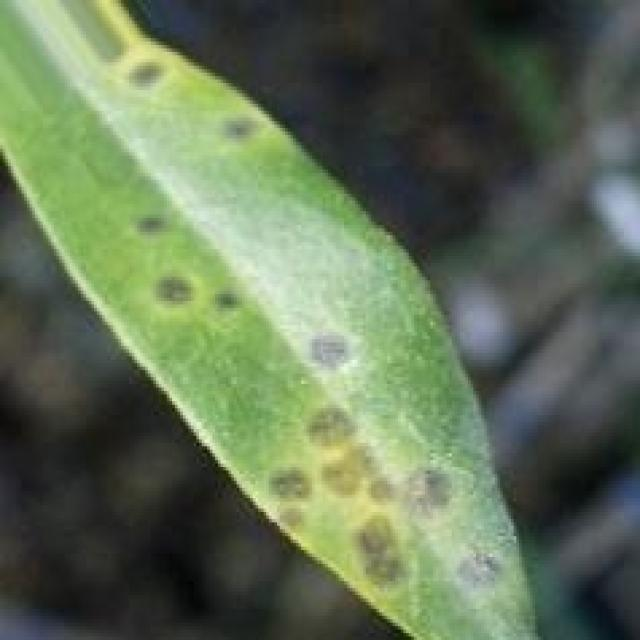Peacock Eye: (46, 107, 535, 637)
